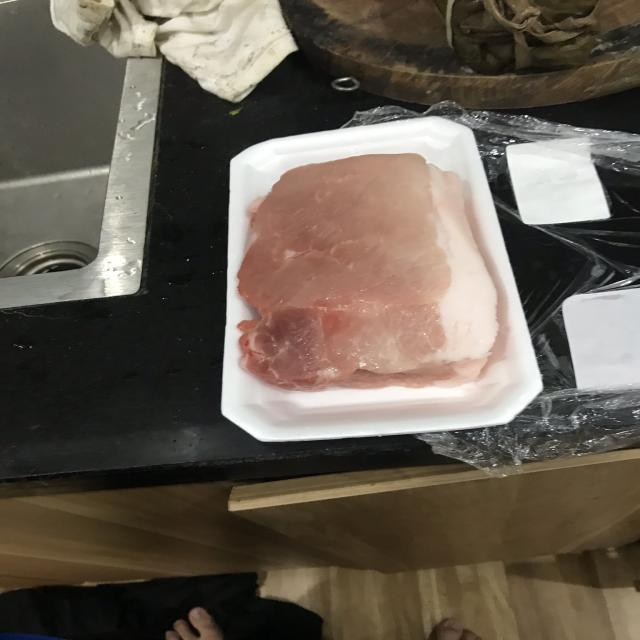chicken: (238, 151, 512, 389)
